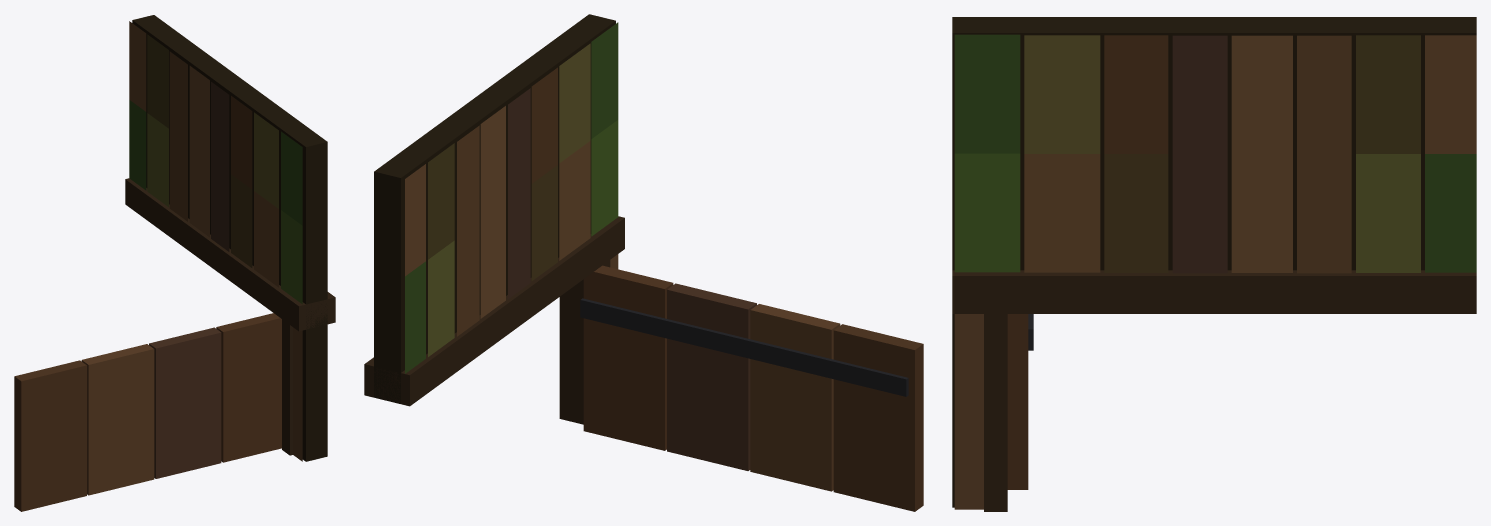
Rendered from wall-mossy-door-open-high-r.glb.
The picture shows the model from 3 angles, left to right: view 1: azimuth 30°, elevation 25°; view 2: azimuth 150°, elevation 25°; view 3: azimuth 270°, elevation 25°; orthographic projection. The views are drawn at different scales.
Parts seen in each view (by area): view 1: wall-mossy-door-open-high-r; view 2: wall-mossy-door-open-high-r; view 3: wall-mossy-door-open-high-r.
Boxes of the visible parts, x1,y1,x2,y2 form: wall-mossy-door-open-high-r: (14,15,335,511); wall-mossy-door-open-high-r: (364,14,923,511); wall-mossy-door-open-high-r: (952,17,1476,511).
Size of the model in its own units: 0.984 by 1 by 1.
